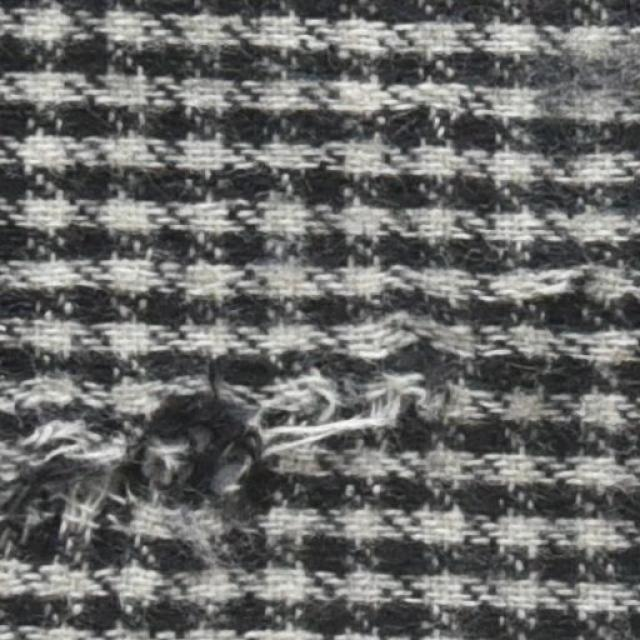Snag: (0, 255, 441, 547), (518, 0, 639, 146)
